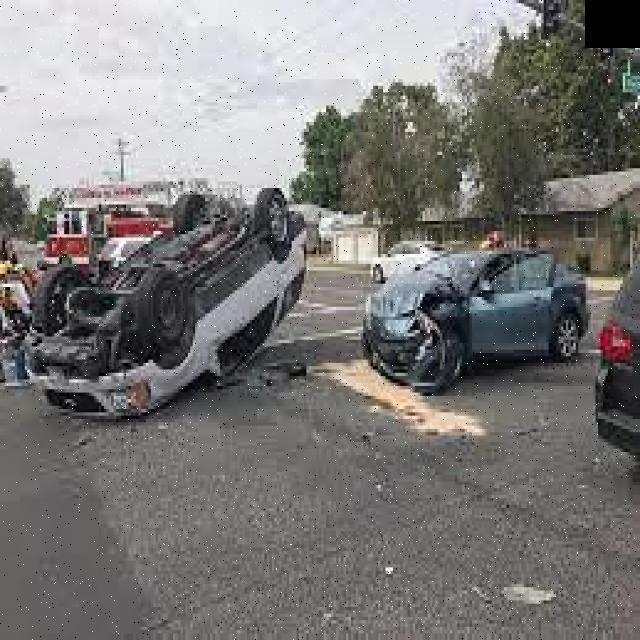multiple_accident: (10, 128, 640, 428)
